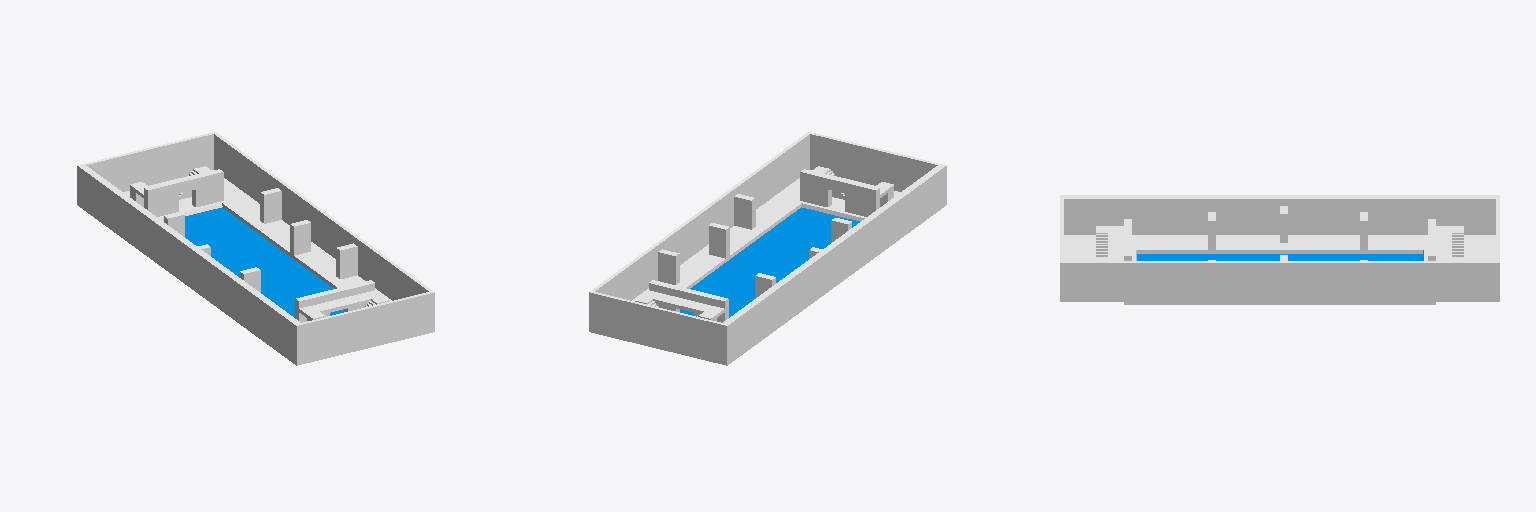
The model's file is LevelBase.obj.
3 renders of one model, left to right at view 1: azimuth 30°, elevation 25°; view 2: azimuth 150°, elevation 25°; view 3: azimuth 270°, elevation 25°, orthographic.
Parts seen in each view (by area): view 1: LevelBase; view 2: LevelBase; view 3: LevelBase.
Part boxes in pixels (x1,y1,x2,y2): LevelBase: (77, 132, 434, 365); LevelBase: (589, 132, 946, 365); LevelBase: (1060, 195, 1499, 304).
Bounding box in the file's own units: 40 × 15 × 110.